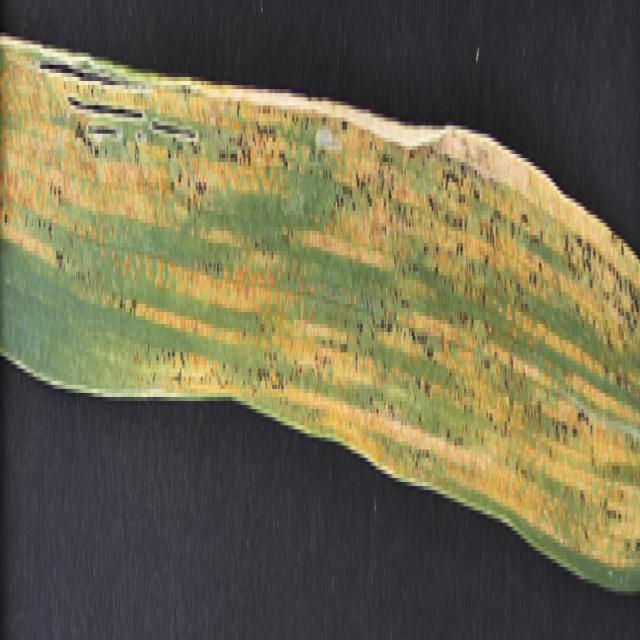leaf rust: (1, 36, 640, 584)
